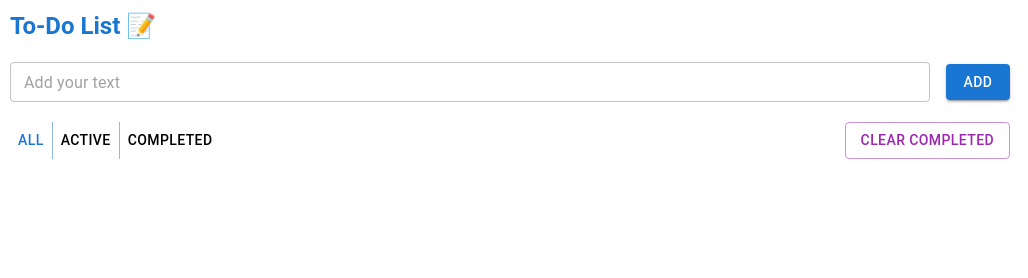
Test: HomePage › filters tasks
Type "Active Task" into the field with placeholder "Add your text" at {"x": 470, "y": 82}, box [10,62,930,102]
Click the button "Add" at {"x": 978, "y": 82}, box [946,64,1010,100]
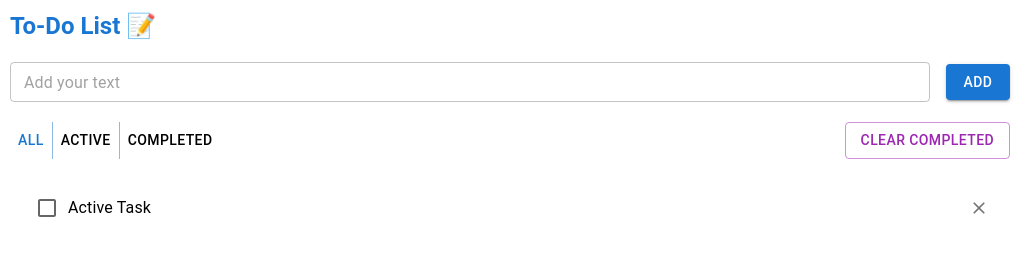
Type "Completed Task" into the field with placeholder "Add your text" at {"x": 470, "y": 82}, box [10,62,930,102]
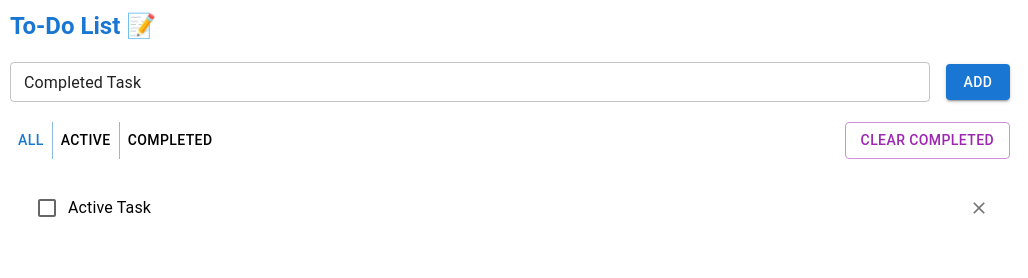
Click the button "Add" at {"x": 978, "y": 82}, box [946,64,1010,100]
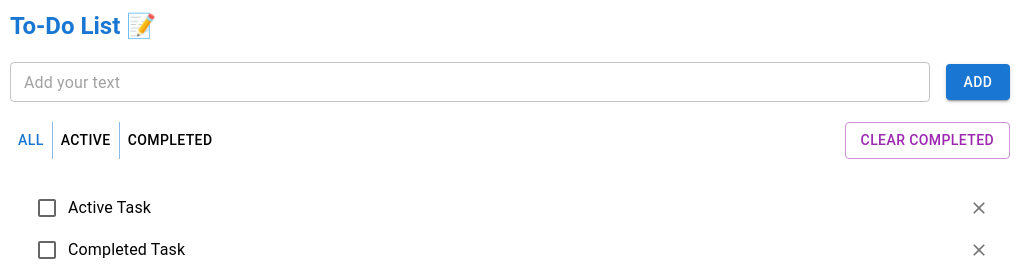
Click the checkbox next to "Completed Task" at {"x": 47, "y": 250}, box [35,238,59,262]
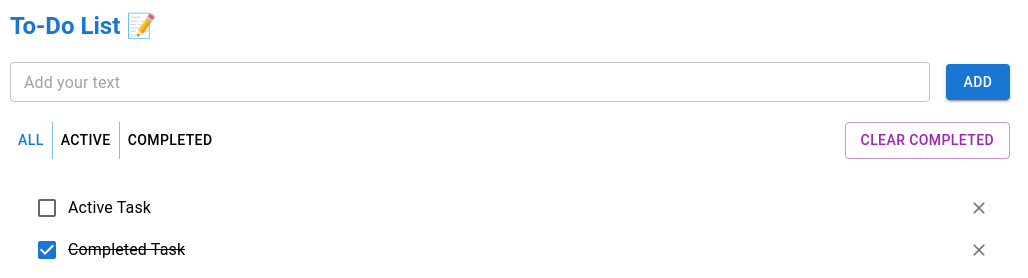
Click the button "active" at {"x": 86, "y": 140}, box [53,122,120,158]
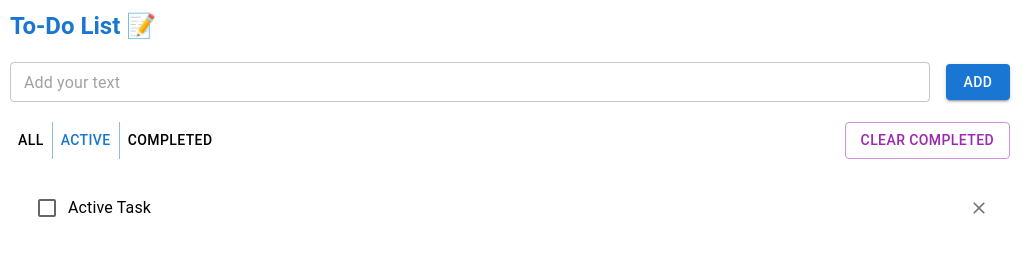
Result: the text "Active Task" is shown at [68,196,151,220]
Result: the text "Completed Task" is gone
Click the button "completed" at {"x": 170, "y": 140}, box [120,122,220,158]
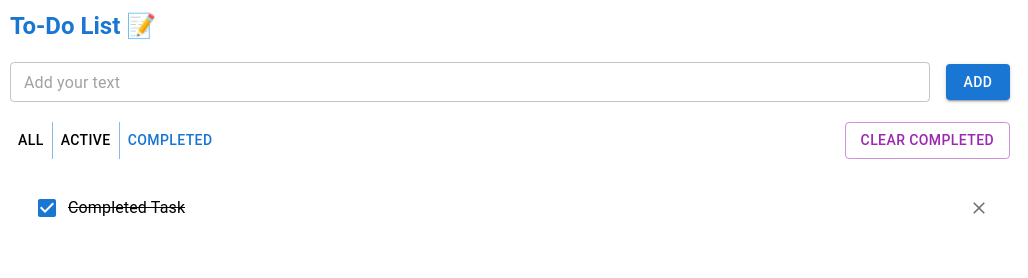
Result: the text "Completed Task" is shown at [68,196,185,220]
Result: the text "Active Task" is gone
